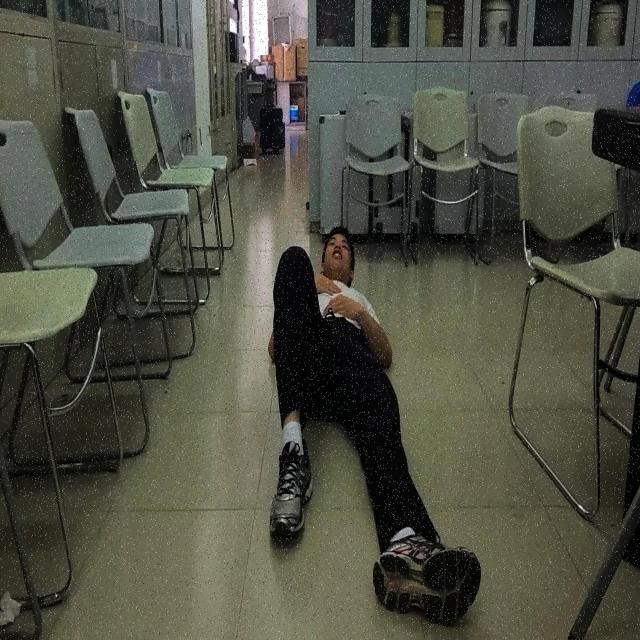fall: (266, 224, 482, 628)
